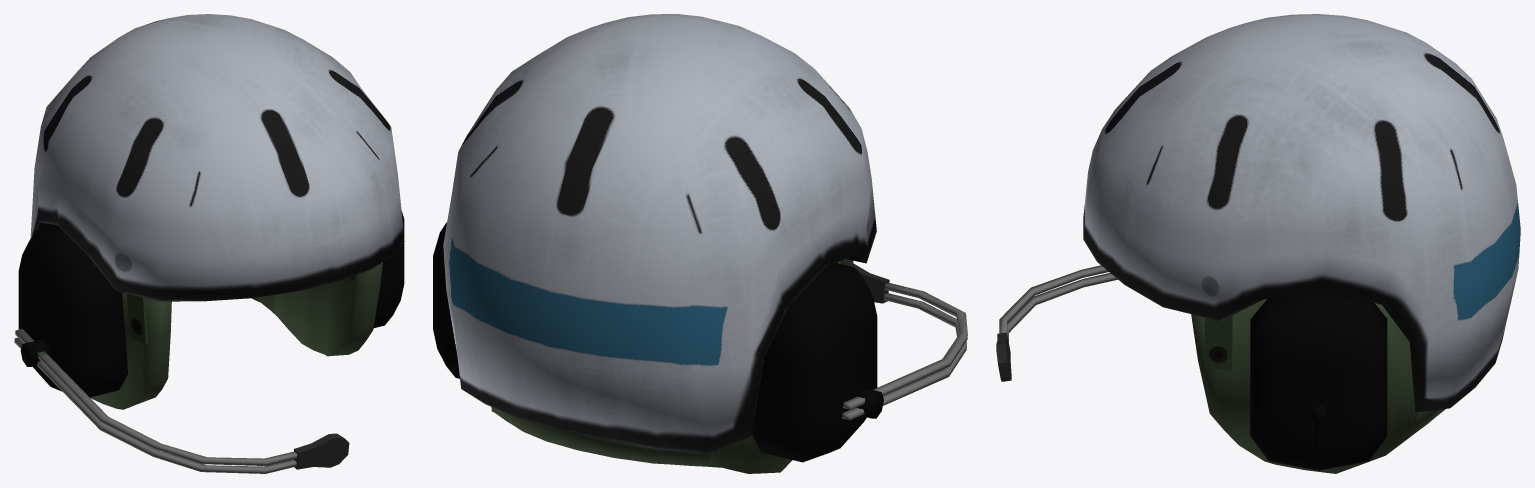
The model's file is XOFHelmet.fbx.
The picture shows the model from 3 angles, left to right: view 1: azimuth 30°, elevation 25°; view 2: azimuth 150°, elevation 25°; view 3: azimuth 270°, elevation 25°; orthographic projection. The views are drawn at different scales.
Visible parts, largest first — view 1: Cube.002; view 2: Cube.002; view 3: Cube.002.
Part boxes in pixels (bbox=[...]): Cube.002: bbox=[14, 14, 404, 473]; Cube.002: bbox=[433, 14, 967, 473]; Cube.002: bbox=[996, 14, 1520, 473].
Bounding box in the file's own units: 0.186 × 0.1651 × 0.2083.
